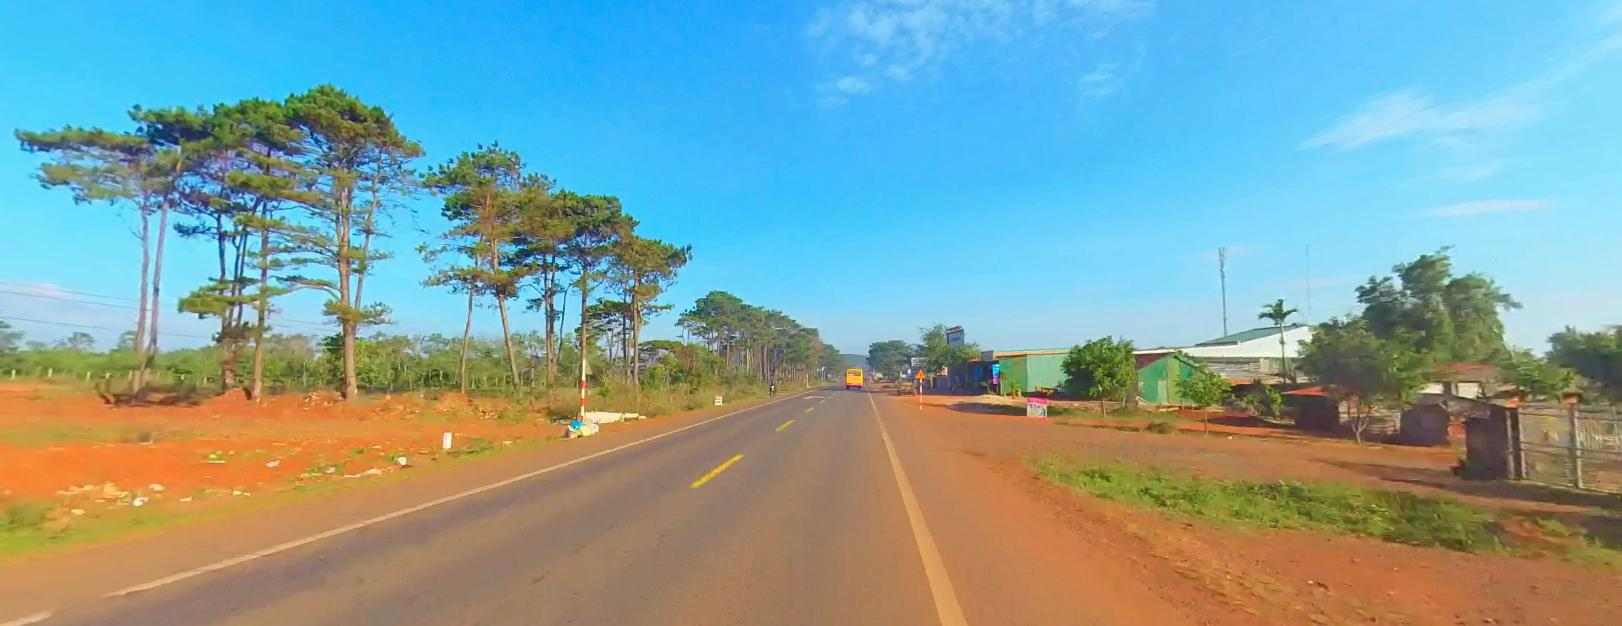Nguy hiem: (914, 367, 926, 377)
